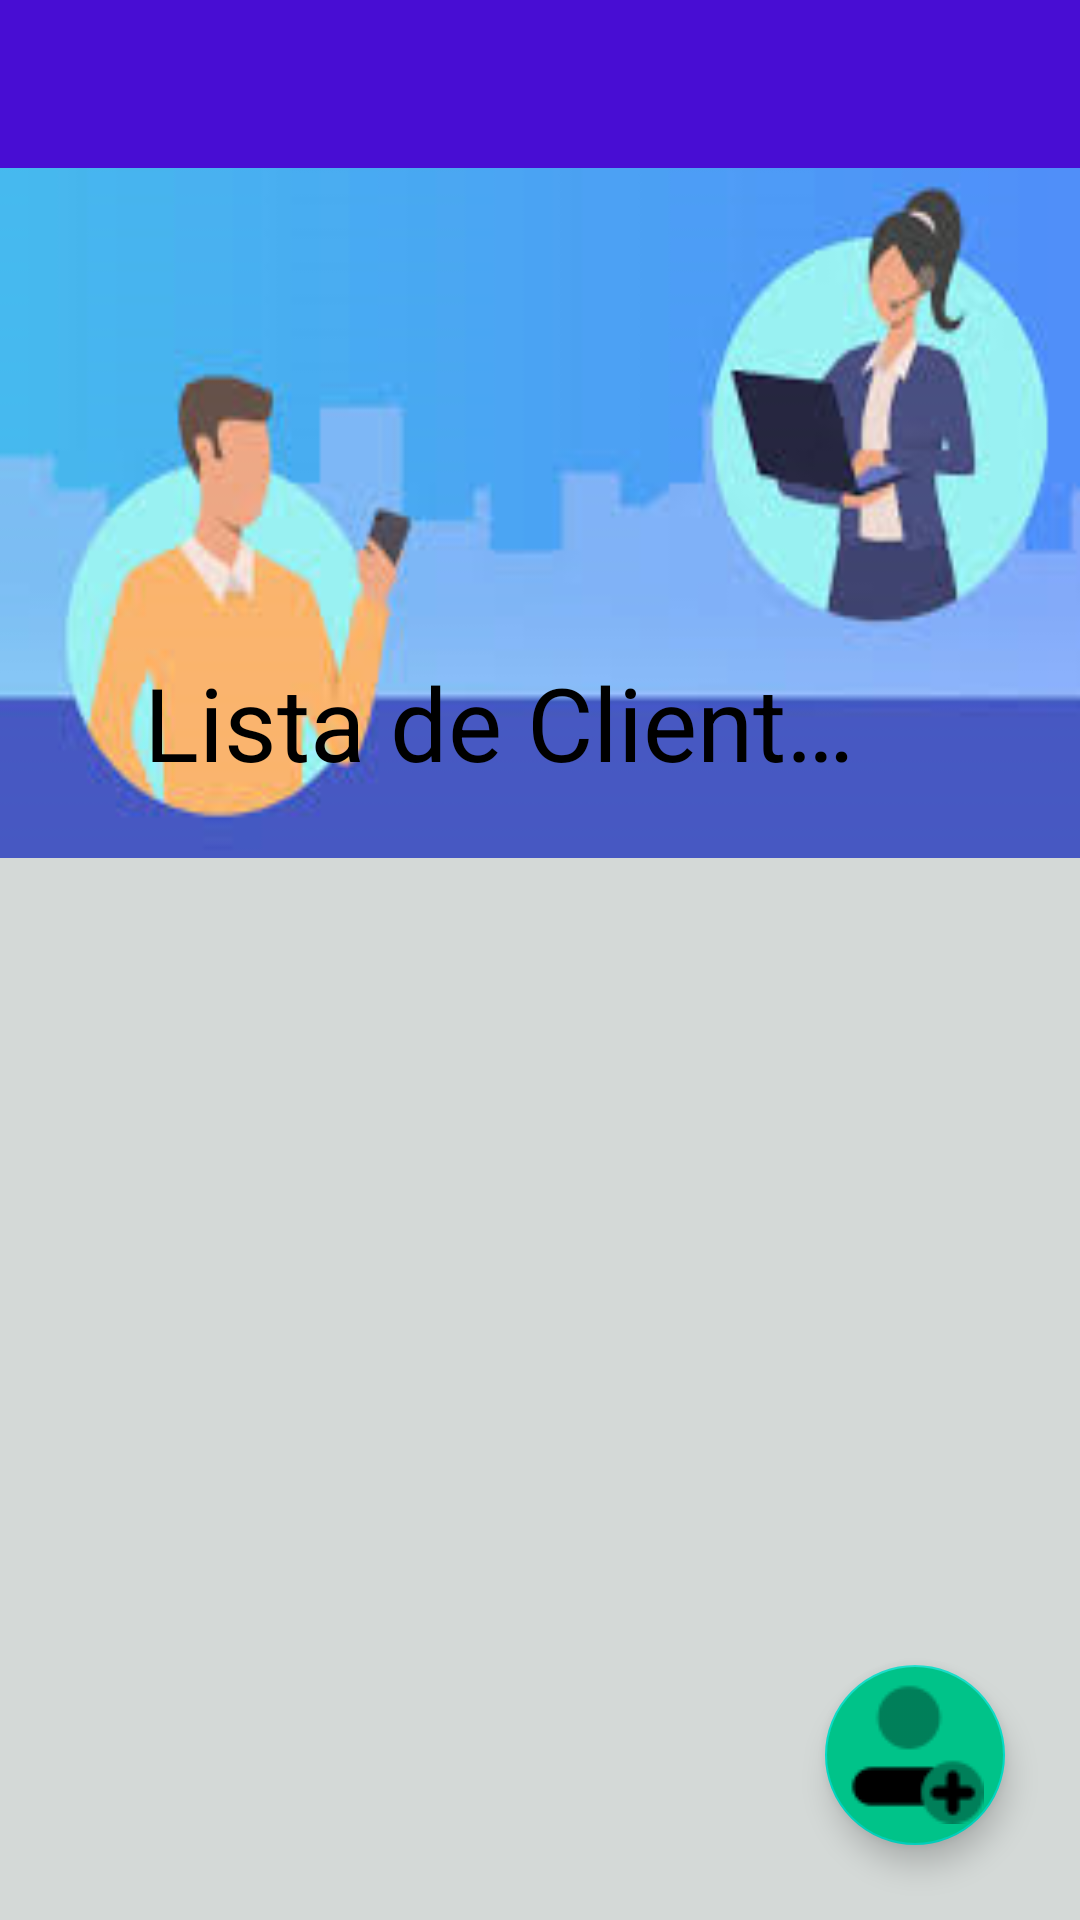

Icon bounding boxes for this 1080×1920 phone screenshot, format (x1,y1,x2,y2):
Agregar Cliente: (825,1665,1005,1845)
